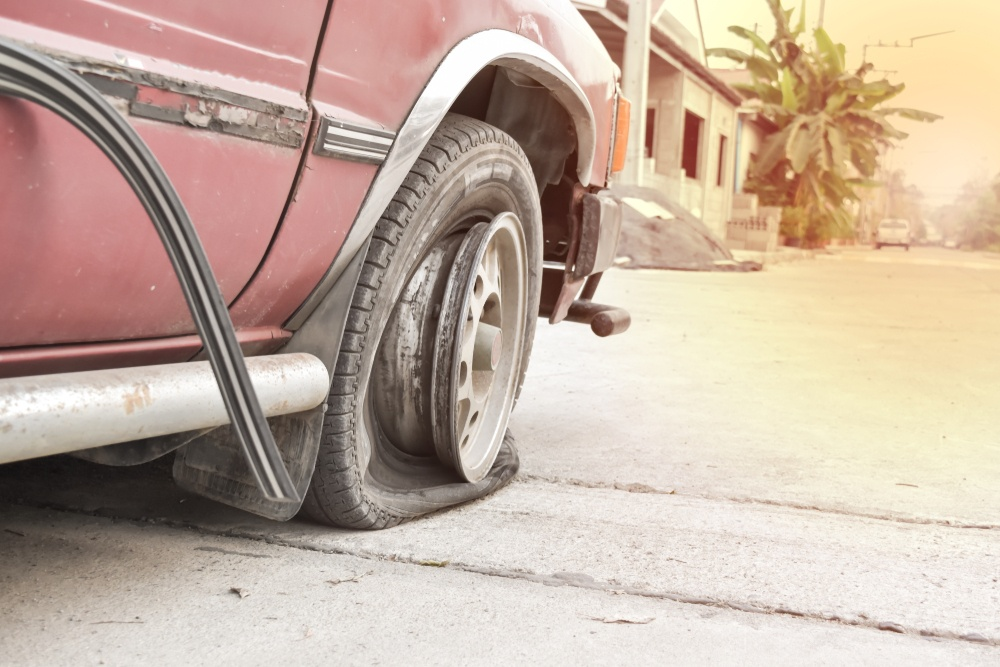damage: (302, 111, 545, 530)
